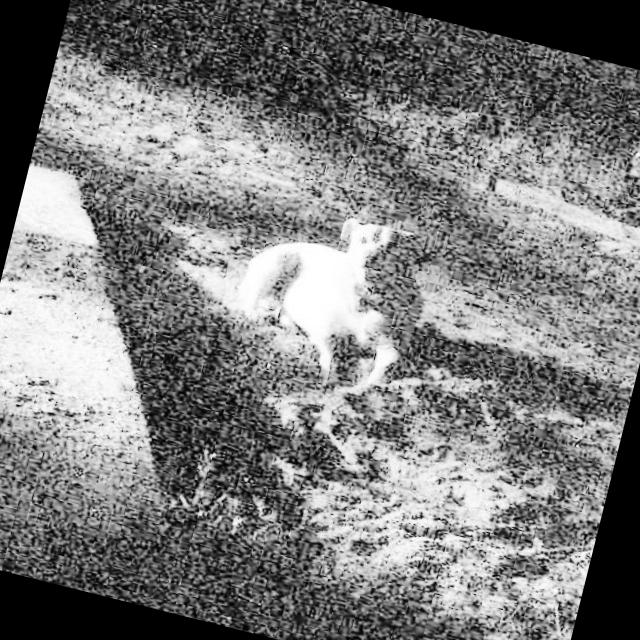Dog: (218, 201, 445, 400)
